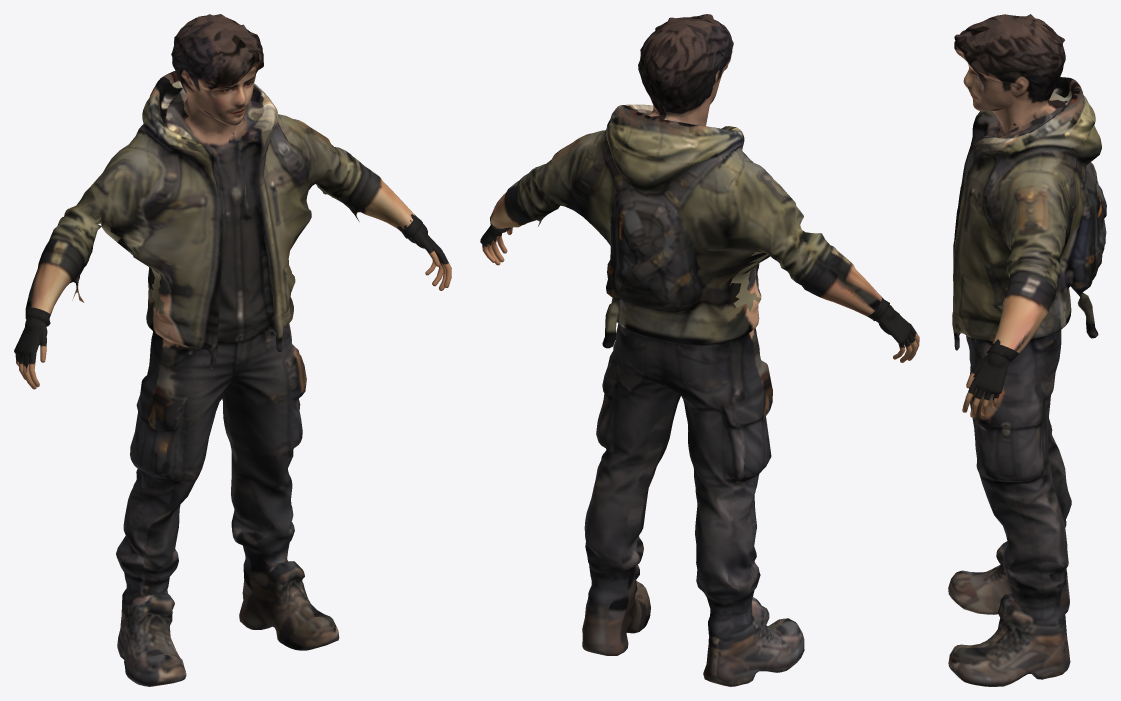
Rendered from hero_apose_upload.fbx.
3 views of the same model, side by side, from view 1: azimuth 30°, elevation 25°; view 2: azimuth 150°, elevation 25°; view 3: azimuth 270°, elevation 25° (orthographic).
Visible parts, largest first — view 1: hero; view 2: hero; view 3: hero.
Boxes of the visible parts, <box> form: hero: <box>14,14,451,686</box>; hero: <box>480,14,919,686</box>; hero: <box>948,14,1106,686</box>.
Size of the model in its own units: 126 by 178 by 41.12.
Materials: 1 (1 with a texture image).
